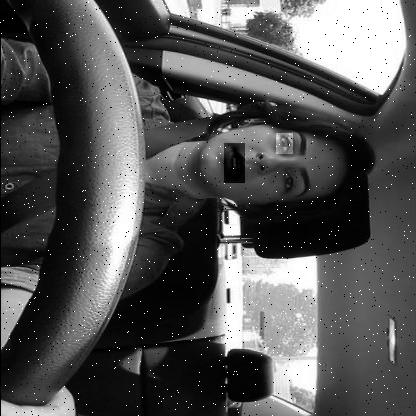seatbelt: (0, 100, 388, 236)
